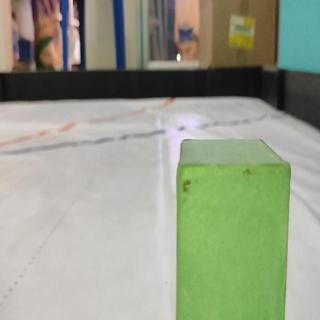greenbox: (173, 135, 293, 320)
